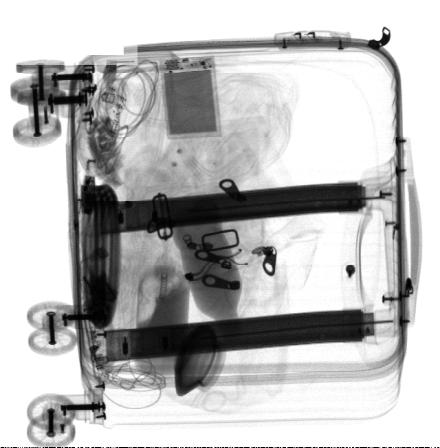Powerbank: (159, 54, 223, 139)
